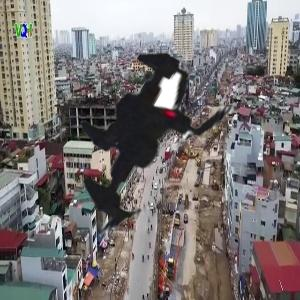drone: (13, 6, 294, 287)
